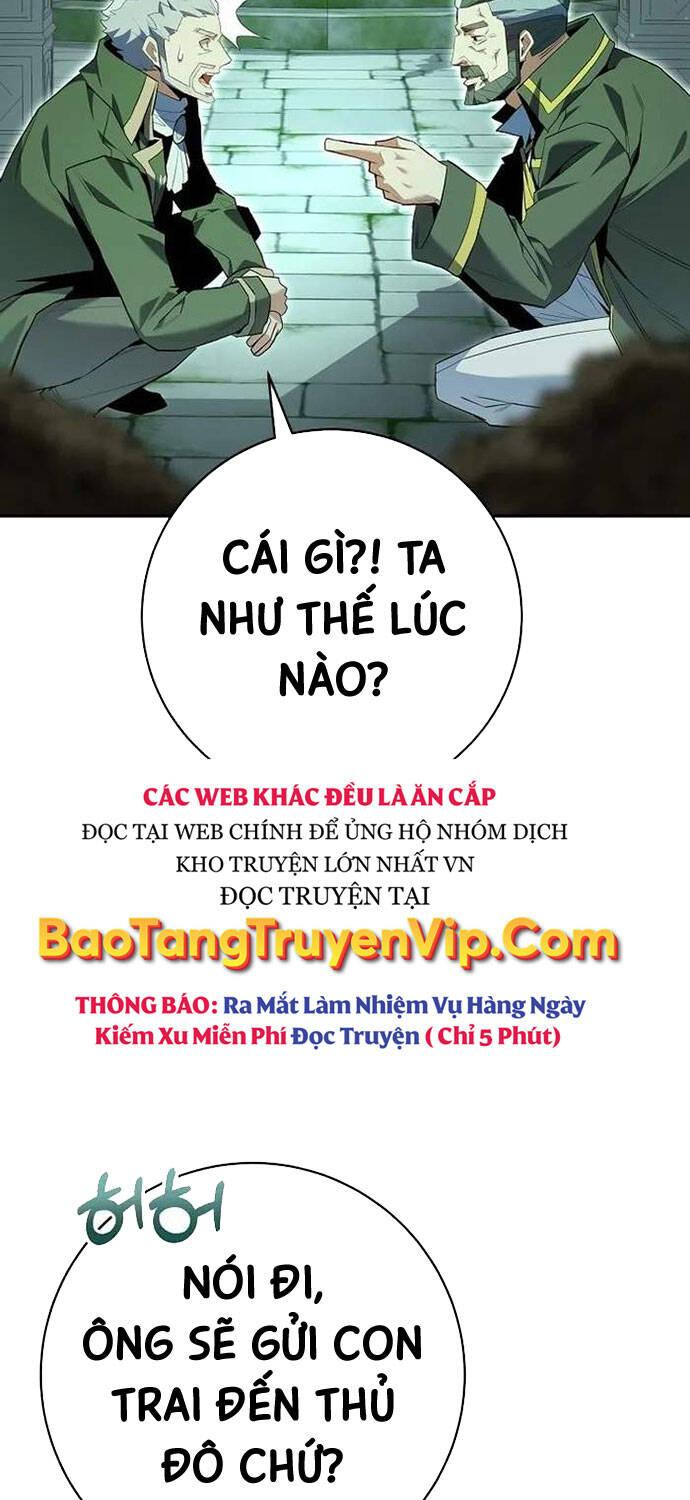quangcao: (36, 772, 630, 1056)
